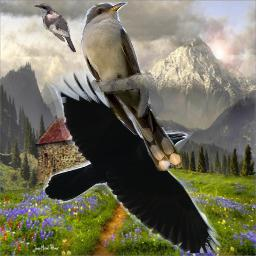Crow: (43, 69, 222, 253)
Cuckoo: (81, 2, 182, 171), (33, 2, 76, 53)
